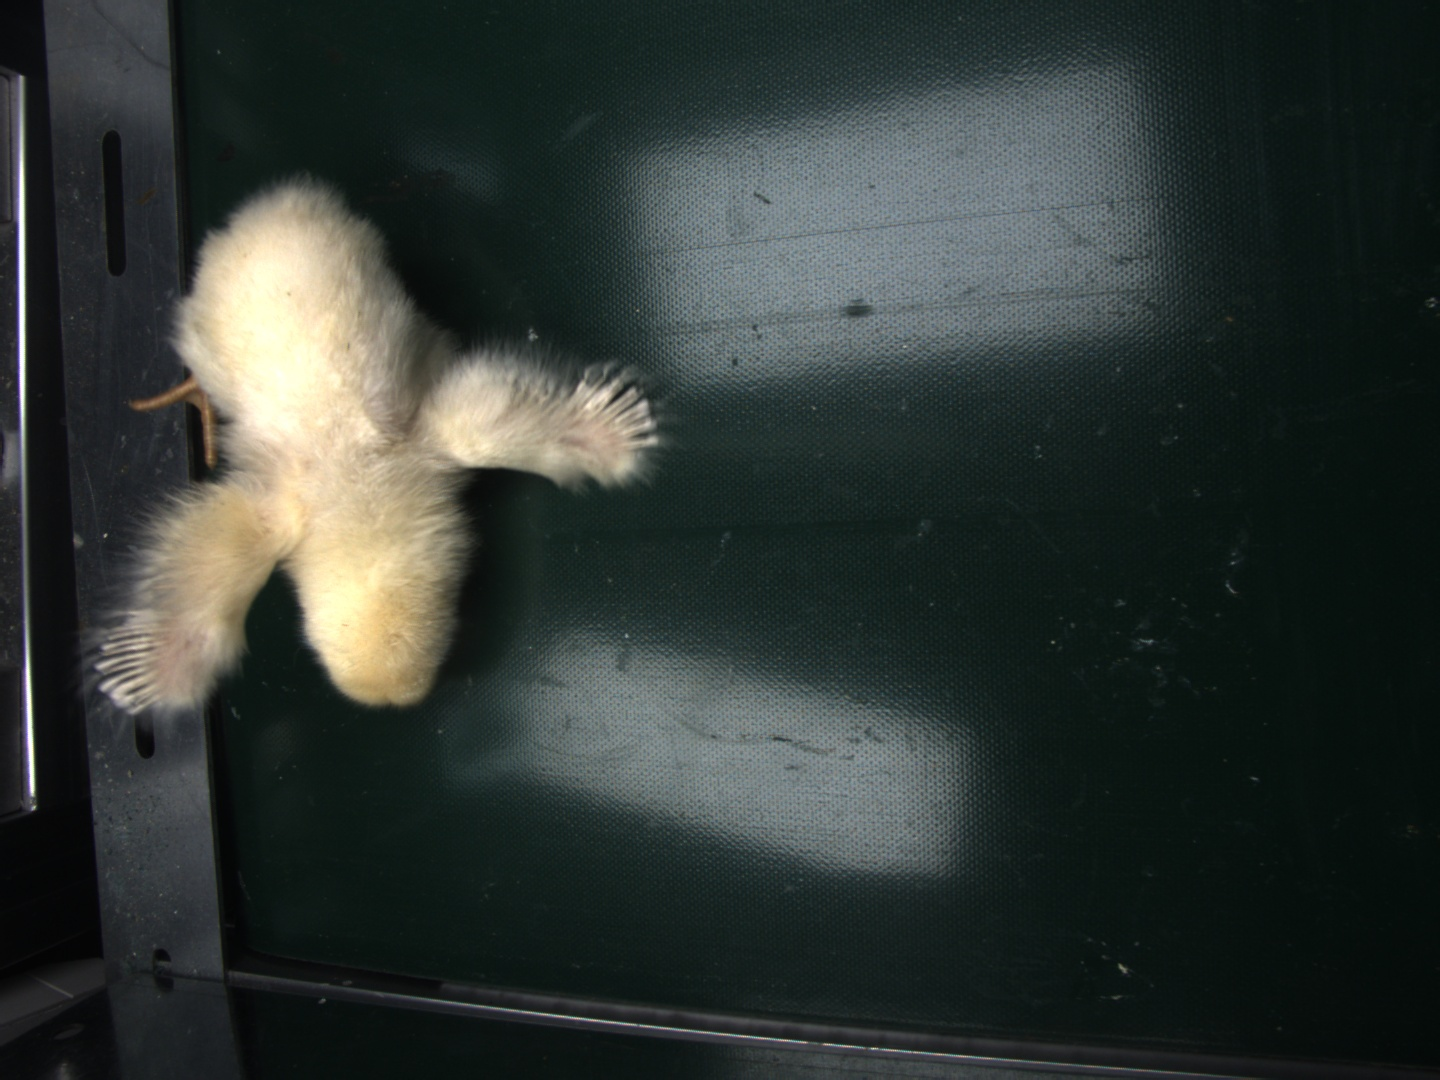male: (96, 618, 168, 714)
